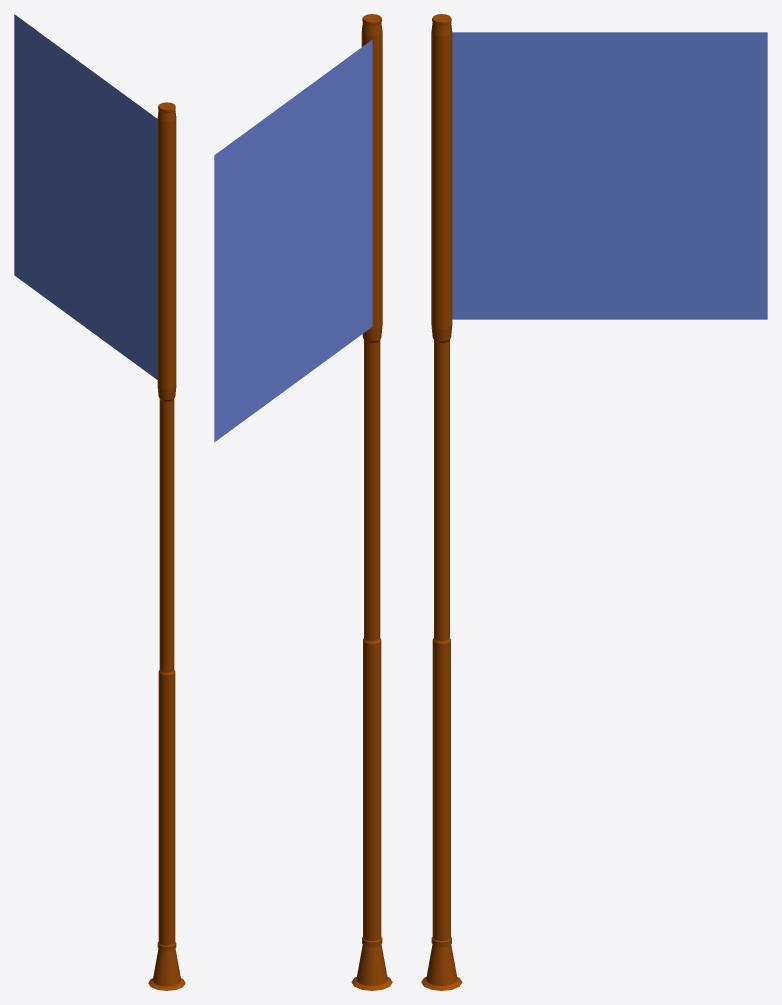
Rendered from FlagSquare.fbx.
3 views of the same model, side by side, from view 1: azimuth 30°, elevation 25°; view 2: azimuth 150°, elevation 25°; view 3: azimuth 270°, elevation 25° (orthographic). The views are drawn at different scales.
Parts seen in each view (by area): view 1: Flag_Flag, Flag_Pole; view 2: Flag_Flag, Flag_Pole; view 3: Flag_Flag, Flag_Pole.
Part boxes in pixels (x1=…): Flag_Flag: x1=14, y1=14, x2=157, y2=379; Flag_Pole: x1=148, y1=102, x2=185, y2=990; Flag_Flag: x1=214, y1=39, x2=372, y2=442; Flag_Pole: x1=351, y1=14, x2=392, y2=990; Flag_Flag: x1=452, y1=32, x2=767, y2=319; Flag_Pole: x1=421, y1=14, x2=462, y2=990.
Size of the model in its own units: 11.58 by 298 by 97.09.
